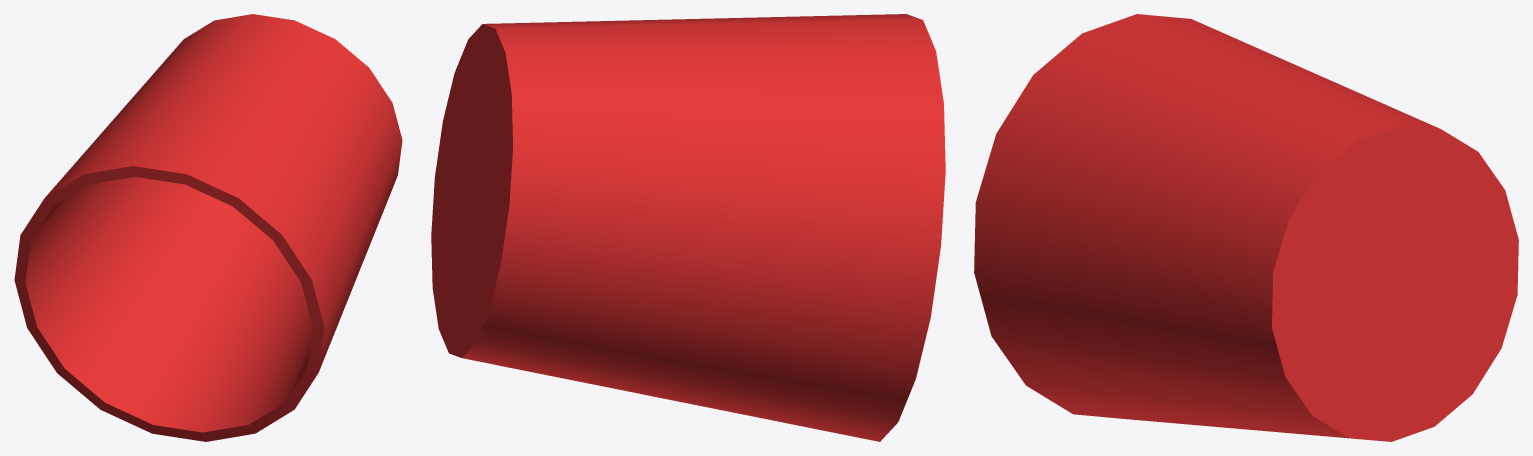
Rendered from Vederko.fbx.
3 views of the same model, side by side, from view 1: azimuth 30°, elevation 25°; view 2: azimuth 150°, elevation 25°; view 3: azimuth 270°, elevation 25° (orthographic). The views are drawn at different scales.
Parts seen in each view (by area): view 1: Vederko; view 2: Vederko; view 3: Vederko.
Boxes of the visible parts, x1=… form: Vederko: x1=14, y1=14, x2=402, y2=441; Vederko: x1=431, y1=14, x2=945, y2=441; Vederko: x1=974, y1=14, x2=1518, y2=441.
Size of the model in its own units: 14.29 by 11.09 by 14.09.
